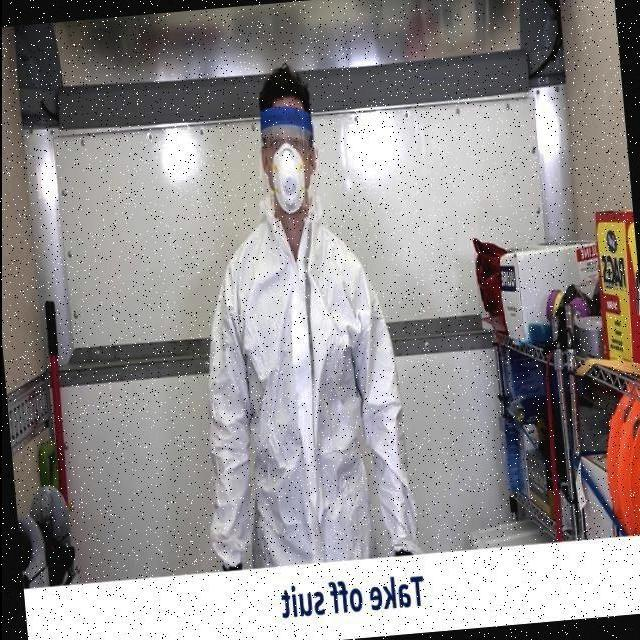mask: (268, 146, 312, 204)
no_gloves: (244, 61, 320, 108)
